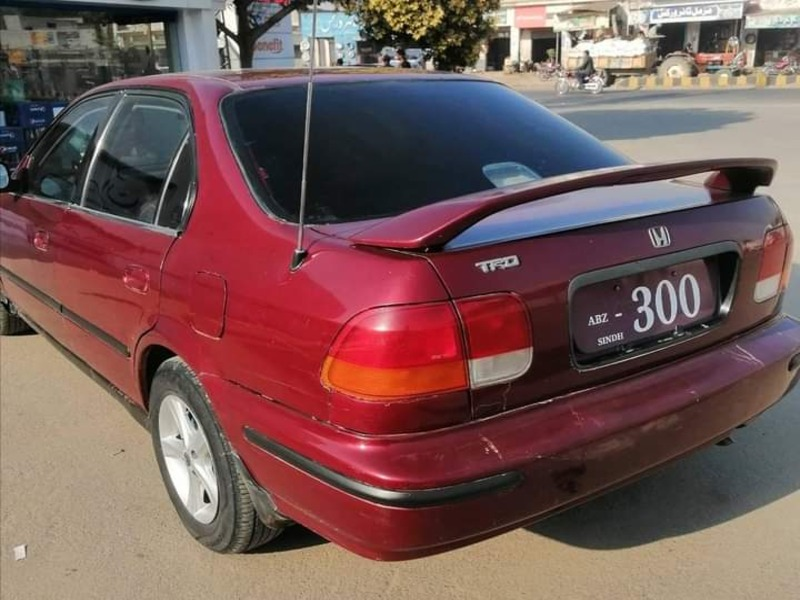License Plate: (569, 256, 736, 365)
